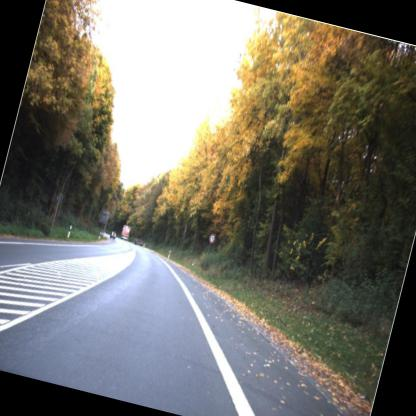prohibitory: (207, 232, 216, 244)
